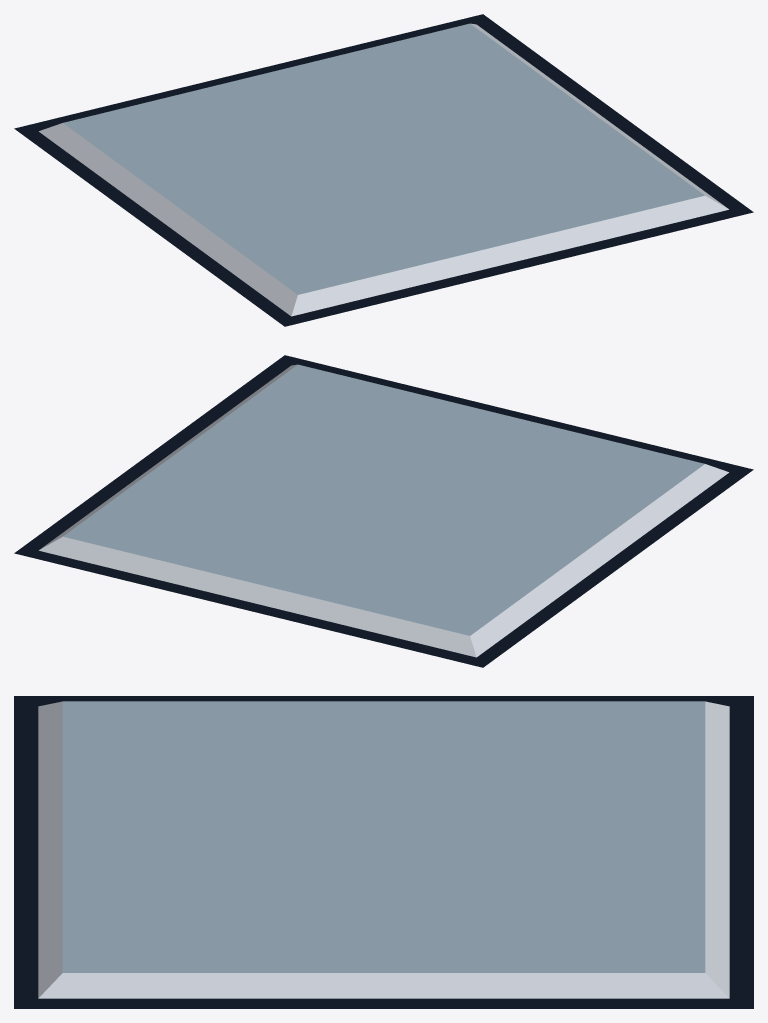
File: Tile.fbx
The picture shows the model from 3 angles, top to bottom: view 1: azimuth 30°, elevation 25°; view 2: azimuth 150°, elevation 25°; view 3: azimuth 270°, elevation 25°; orthographic projection. The views are drawn at different scales.
Parts seen in each view (by area): view 1: BaseTile; view 2: BaseTile; view 3: BaseTile.
Boxes of the visible parts, x1,y1,x2,y2 form: BaseTile: [14, 14, 753, 326]; BaseTile: [14, 355, 753, 667]; BaseTile: [14, 696, 753, 1008].
Size of the model in its own units: 100 by 100 by 2.29.
